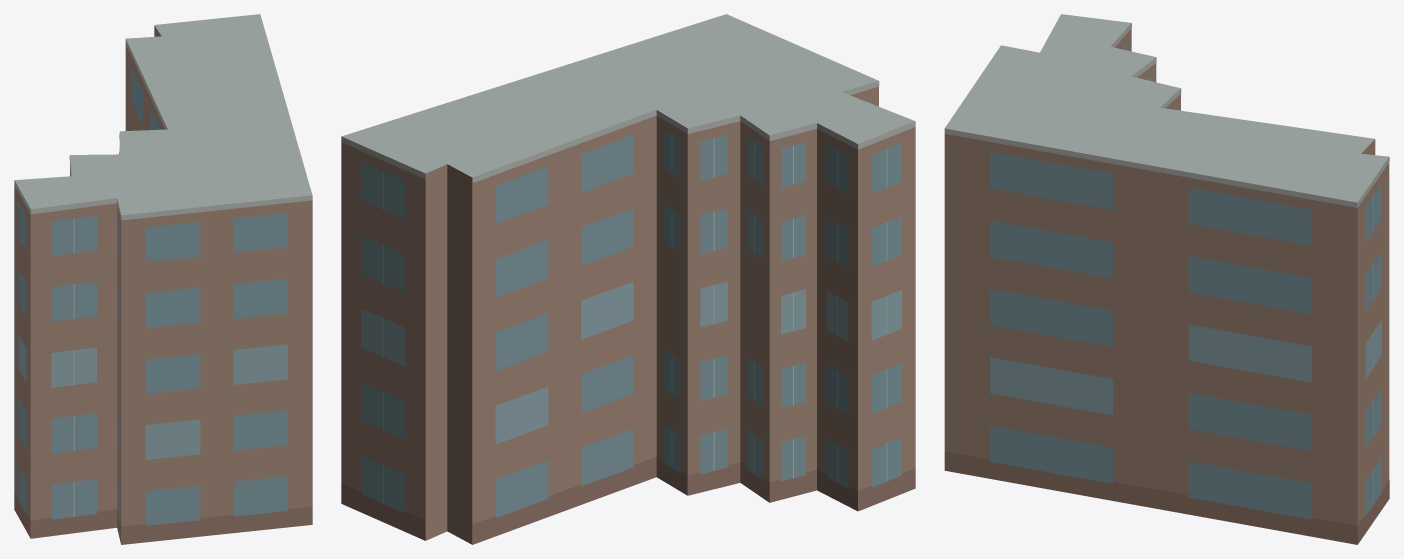
File: survey-upis-32594912.glb
The picture shows the model from 3 angles, left to right: view 1: azimuth 30°, elevation 25°; view 2: azimuth 150°, elevation 25°; view 3: azimuth 270°, elevation 25°; orthographic projection. The views are drawn at different scales.
Visible parts, largest first — view 1: survey-upis-32594912.tmp; view 2: survey-upis-32594912.tmp; view 3: survey-upis-32594912.tmp.
Boxes of the visible parts, x1=… form: survey-upis-32594912.tmp: x1=14, y1=14, x2=312, y2=544; survey-upis-32594912.tmp: x1=341, y1=14, x2=915, y2=544; survey-upis-32594912.tmp: x1=944, y1=14, x2=1389, y2=544.
Bounding box in the file's own units: 18.69 × 15.8 × 18.62.
